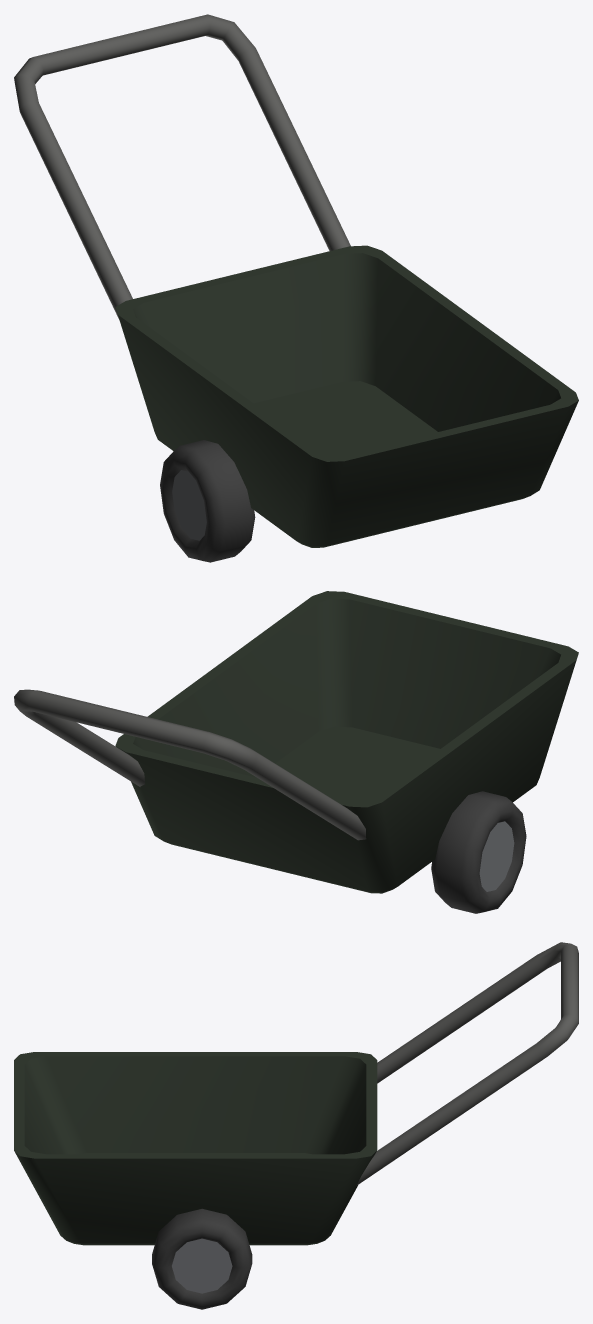
Rendered from GardenCart_2.fbx.
The picture shows the model from 3 angles, top to bottom: view 1: azimuth 30°, elevation 25°; view 2: azimuth 150°, elevation 25°; view 3: azimuth 270°, elevation 25°; orthographic projection. The views are drawn at different scales.
Visible parts, largest first — view 1: GardenCart_2; view 2: GardenCart_2; view 3: GardenCart_2.
Part boxes in pixels (box(x1,y1,x2,y2)): GardenCart_2: box(14, 14, 578, 562); GardenCart_2: box(14, 591, 578, 913); GardenCart_2: box(14, 942, 578, 1309).
Bounding box in the file's own units: 165 × 160 × 305.
